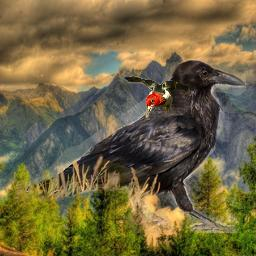Crow: (14, 59, 246, 233)
Woodpecker: (120, 72, 190, 120)
